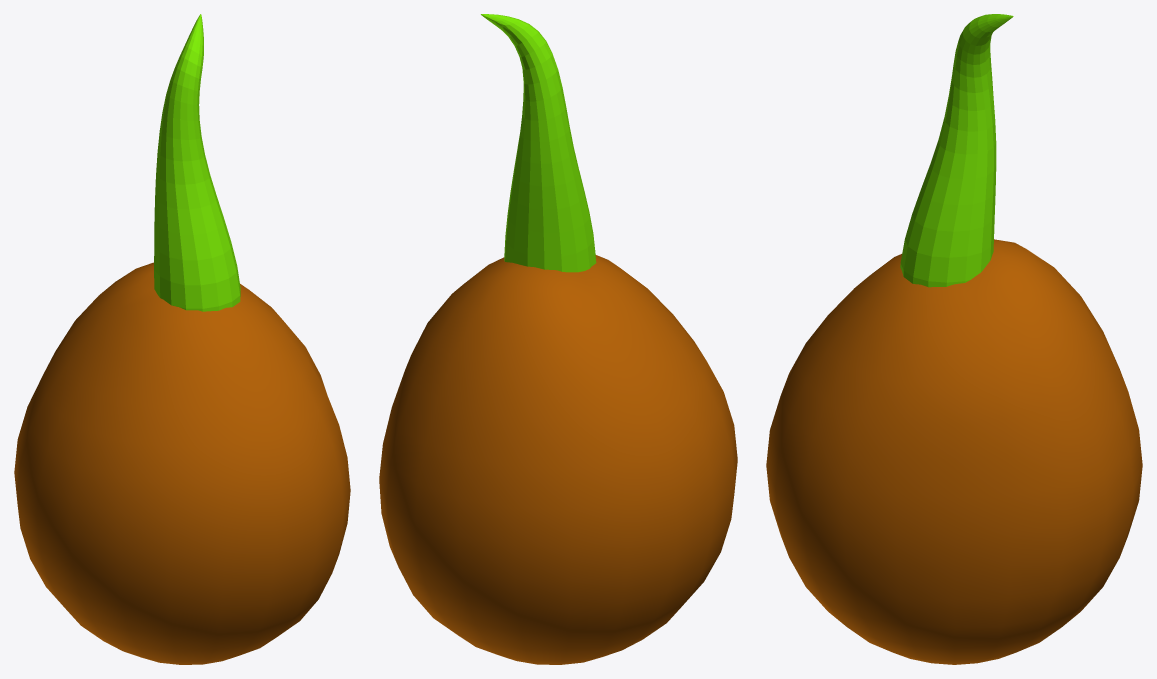
Rendered from Radish Seed germinatingSDM.fbx.
The picture shows the model from 3 angles, left to right: view 1: azimuth 30°, elevation 25°; view 2: azimuth 150°, elevation 25°; view 3: azimuth 270°, elevation 25°; orthographic projection. The views are drawn at different scales.
Parts seen in each view (by area): view 1: Sphere.003, Cube; view 2: Sphere.003, Cube; view 3: Sphere.003, Cube.
Boxes of the visible parts, x1,y1,x2,y2 form: Sphere.003: [14, 262, 350, 664]; Cube: [154, 14, 240, 311]; Sphere.003: [379, 255, 737, 664]; Cube: [481, 14, 596, 272]; Sphere.003: [766, 239, 1142, 664]; Cube: [900, 14, 1013, 287].
Bounding box in the file's own units: 108 × 221 × 115.
